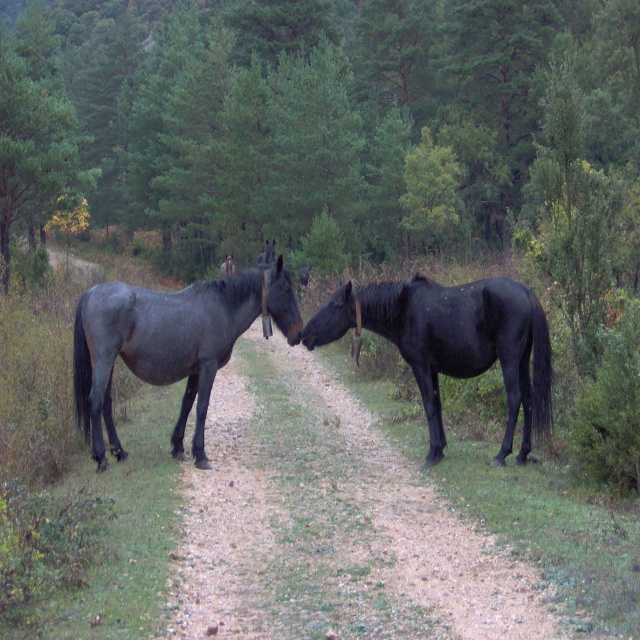Horse: (73, 255, 308, 478), (298, 269, 555, 471)
